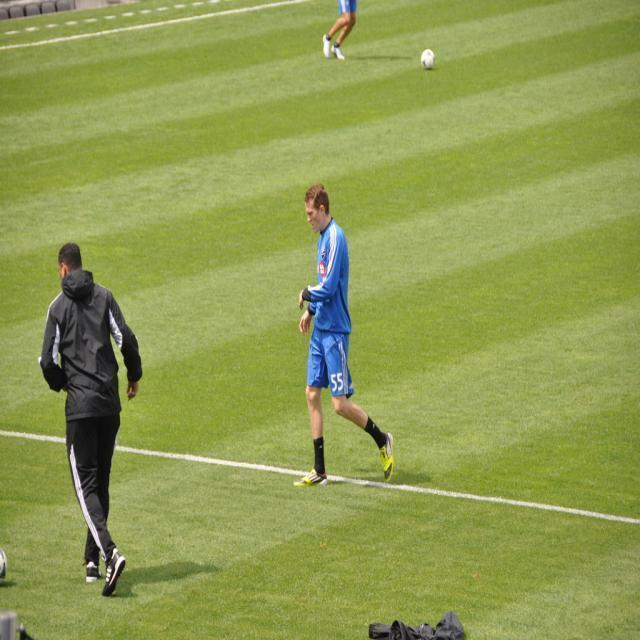ball: (421, 49, 435, 69)
